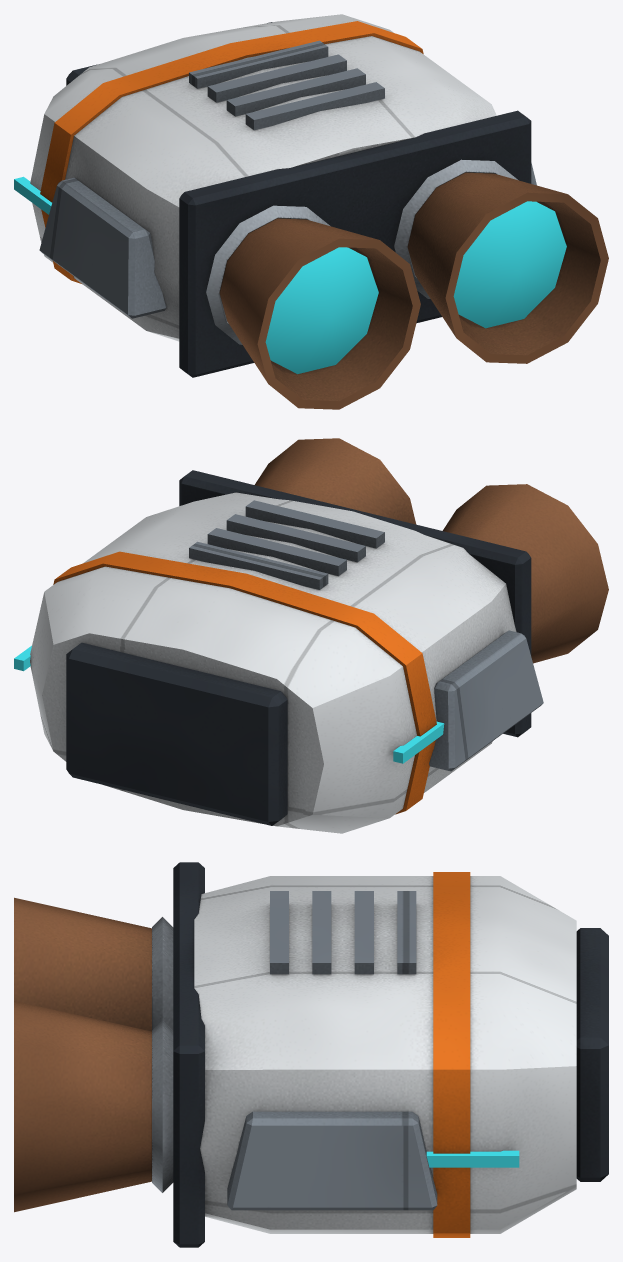
Rendered from motor_avanzado.fbx.
The picture shows the model from 3 angles, top to bottom: view 1: azimuth 30°, elevation 25°; view 2: azimuth 150°, elevation 25°; view 3: azimuth 270°, elevation 25°; orthographic projection. The views are drawn at different scales.
Visible parts, largest first — view 1: motor_avanzado, motor_avanzado_neon; view 2: motor_avanzado, motor_avanzado_neon; view 3: motor_avanzado, motor_avanzado_neon.
Part boxes in pixels (box(x1,y1,x2,y2)): motor_avanzado: box(30, 14, 608, 409); motor_avanzado_neon: box(14, 176, 566, 374); motor_avanzado: box(30, 438, 608, 833); motor_avanzado_neon: box(14, 645, 444, 763); motor_avanzado: box(14, 862, 608, 1247); motor_avanzado_neon: box(426, 1150, 519, 1167).
Bounding box in the file's own units: 5.09 × 2.63 × 5.61.
Materials: 2 (2 with a texture image).
